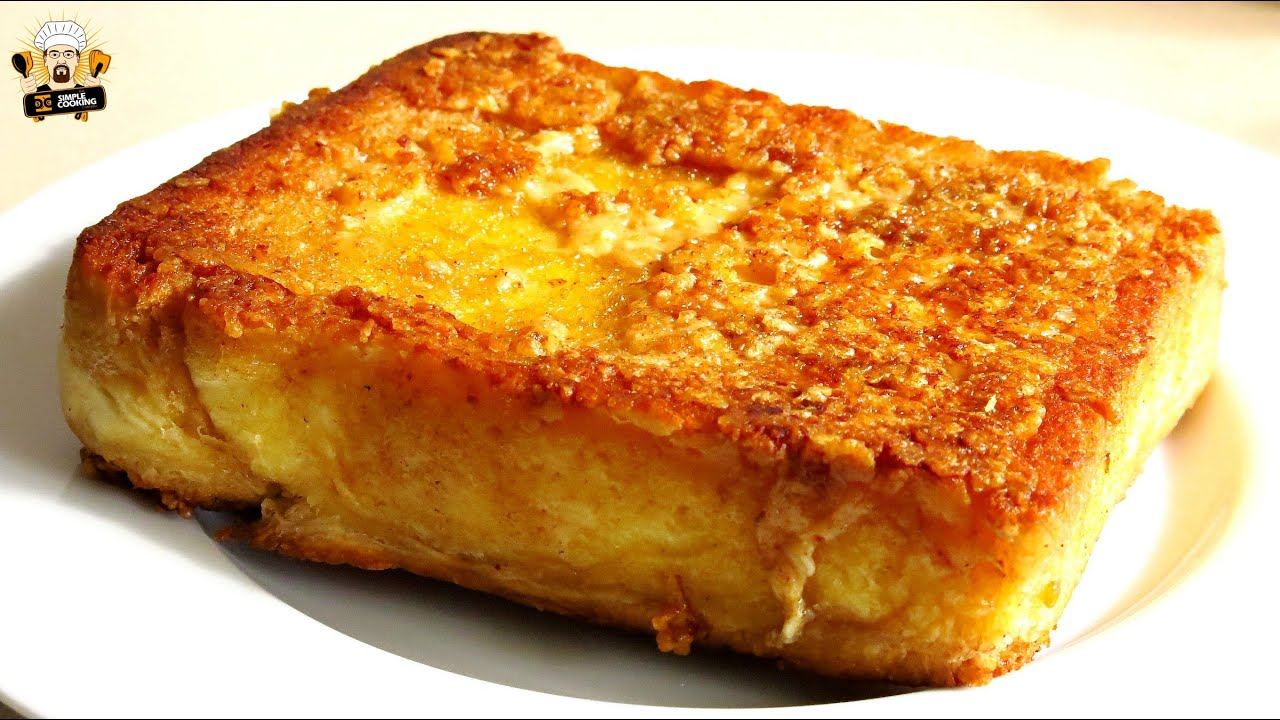cheese: (292, 125, 1020, 403)
